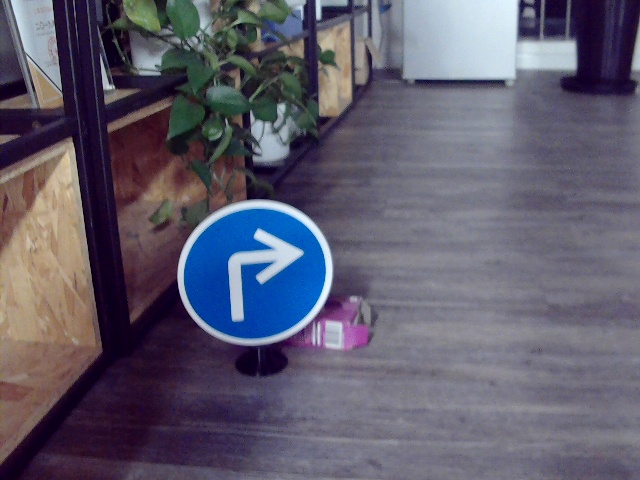turn_right: (223, 231, 301, 320)
